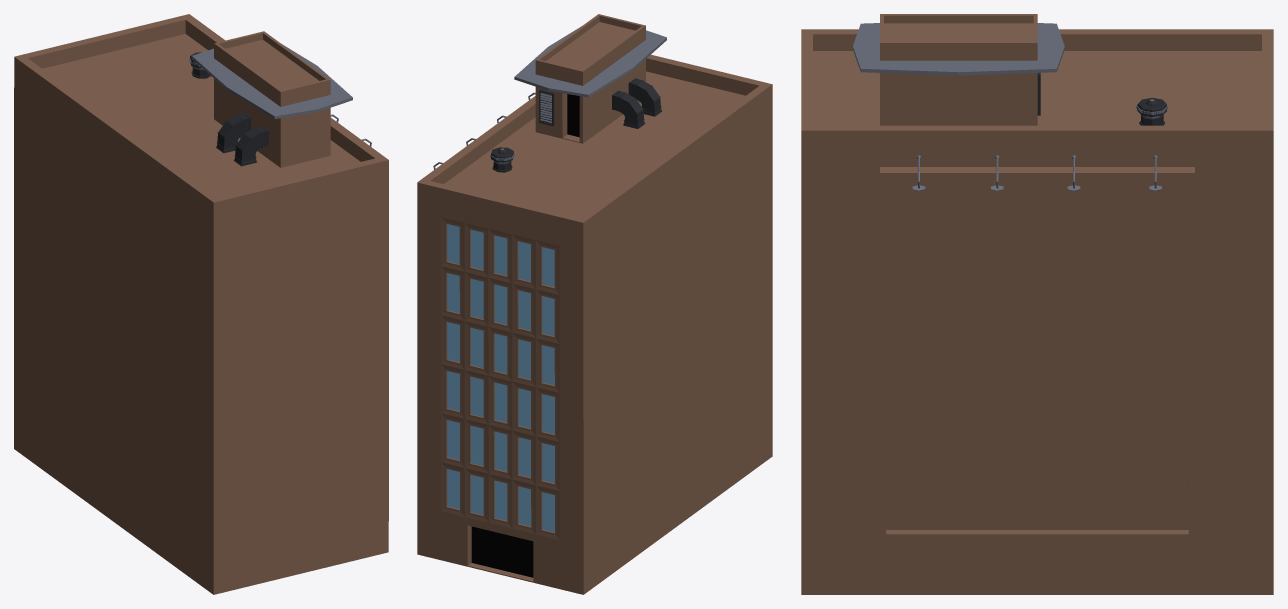
File: EdificioEstrecho.fbx
3 views of the same model, side by side, from view 1: azimuth 30°, elevation 25°; view 2: azimuth 150°, elevation 25°; view 3: azimuth 270°, elevation 25° (orthographic). The views are drawn at different scales.
Parts seen in each view (by area): view 1: EdificioEstrecho.003; view 2: EdificioEstrecho.003; view 3: EdificioEstrecho.003.
Boxes of the visible parts, bbox=[...] form: EdificioEstrecho.003: bbox=[14, 14, 388, 594]; EdificioEstrecho.003: bbox=[417, 14, 772, 594]; EdificioEstrecho.003: bbox=[801, 14, 1273, 594].
Size of the model in its own units: 4.73 by 9.86 by 7.86.
